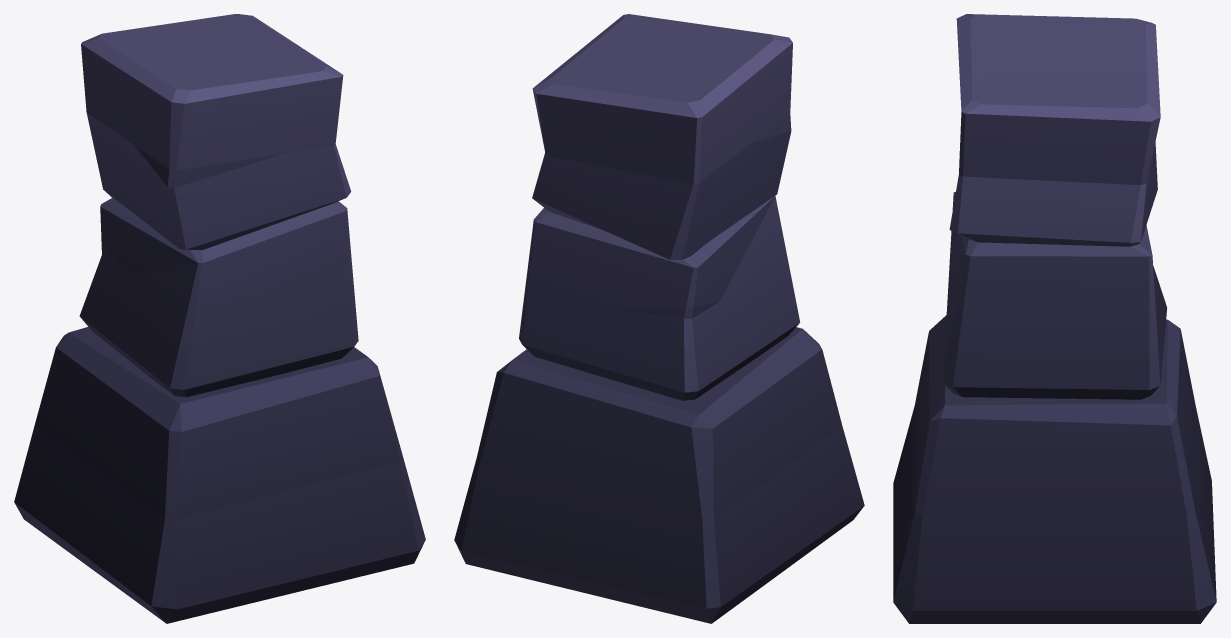
Rendered from column_3.glb.
3 renders of one model, left to right at view 1: azimuth 30°, elevation 25°; view 2: azimuth 150°, elevation 25°; view 3: azimuth 270°, elevation 25°, orthographic. The views are drawn at different scales.
Parts seen in each view (by area): view 1: column_3; view 2: column_3; view 3: column_3.
Boxes of the visible parts, x1,y1,x2,y2 form: column_3: (14,14,425,623); column_3: (454,14,864,623); column_3: (893,14,1216,623).
Size of the model in its own units: 2.18 by 3.79 by 2.18.
1 material, 1 textured.
